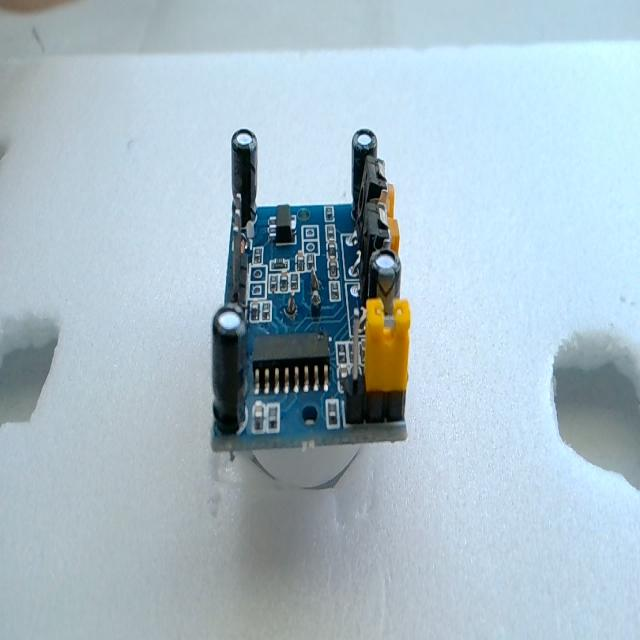Electrolytic capacitor: (211, 308, 248, 430), (231, 128, 258, 228), (350, 128, 378, 210), (368, 248, 401, 316)
IC: (251, 331, 332, 396)
pinheader: (221, 190, 259, 325)
